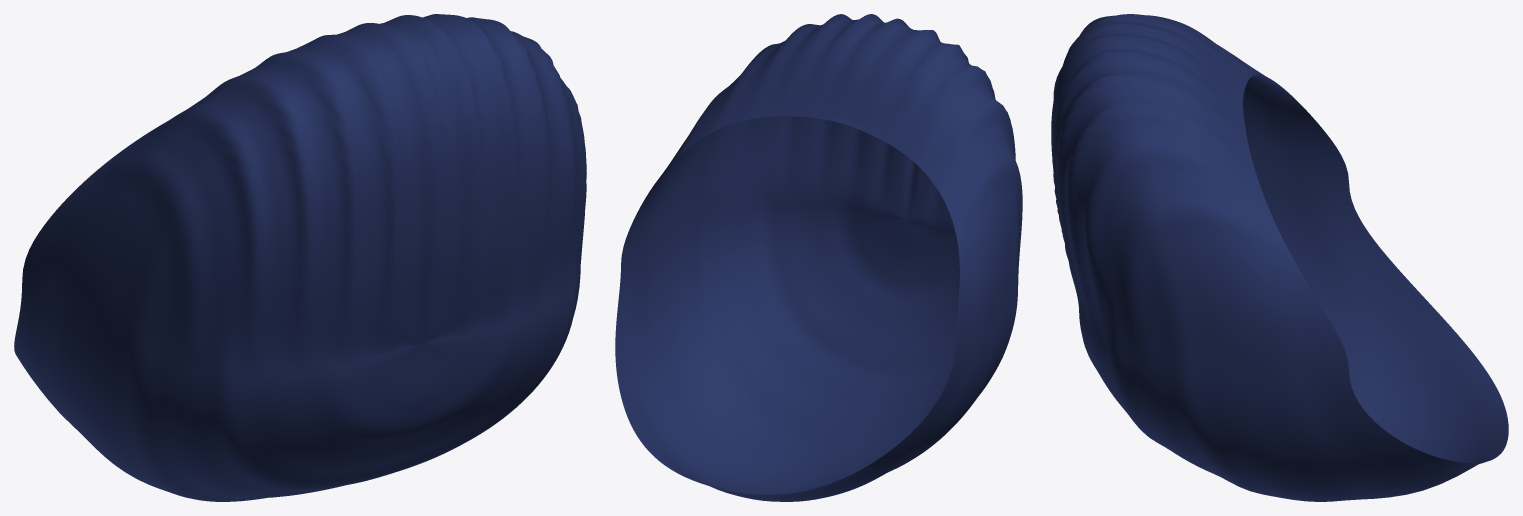
File: 02_josuke_pompadour.obj
The picture shows the model from 3 angles, left to right: view 1: azimuth 30°, elevation 25°; view 2: azimuth 150°, elevation 25°; view 3: azimuth 270°, elevation 25°; orthographic projection. The views are drawn at different scales.
Visible parts, largest first — view 1: 02_josuke_pompadour; view 2: 02_josuke_pompadour; view 3: 02_josuke_pompadour.
Part boxes in pixels (left/top/right/bottom): 02_josuke_pompadour: left=14, top=14, right=586, bottom=501; 02_josuke_pompadour: left=615, top=14, right=1022, bottom=501; 02_josuke_pompadour: left=1051, top=14, right=1508, bottom=501.
Bounding box in the file's own units: 2.93 × 3.22 × 3.01.
